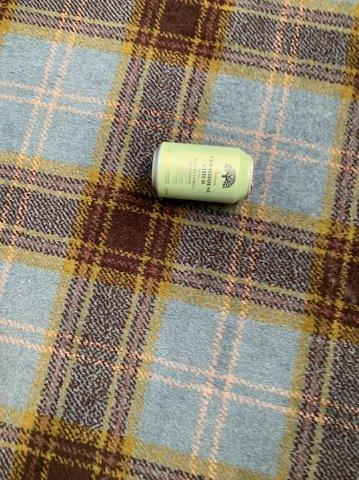kaleng: (152, 143, 253, 202)
